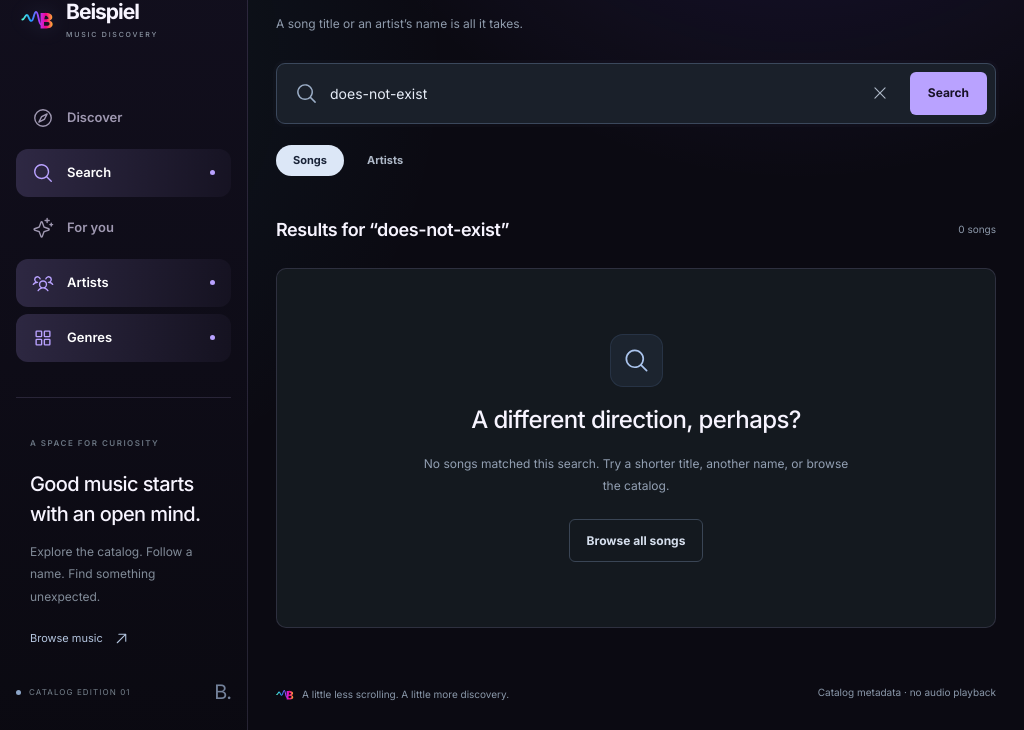
Test: M04 catalog experience › shows an empty result and lets the user reset the query
The width and height of the screenshot is (1024, 730).
(page scrolled)
Expected: the heading "A different direction, perhaps?" is shown, x1=471 y1=402 x2=801 y2=438
Step 1. Click the button "Browse all songs" → [636, 540], box x1=569 y1=519 x2=703 y2=562
(page scrolled)
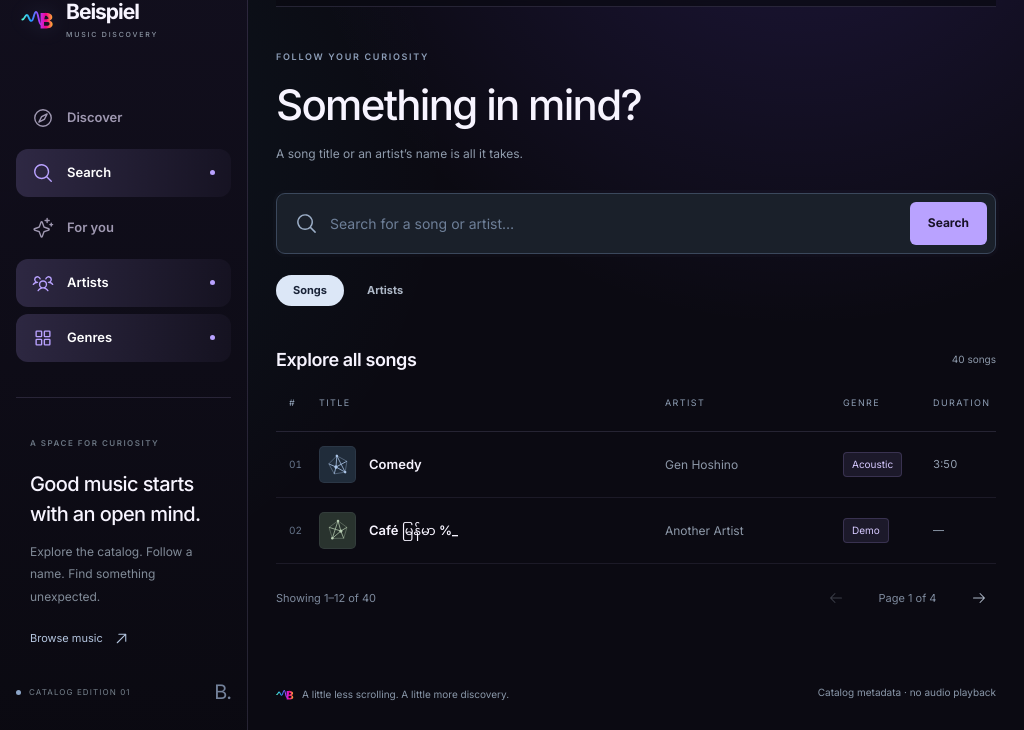
Now the link with aria-label "View details for Comedy" is shown, box x1=289 y1=446 x2=957 y2=483
Now the field named "Search the music catalog" is empty, box x1=330 y1=201 x2=898 y2=246
